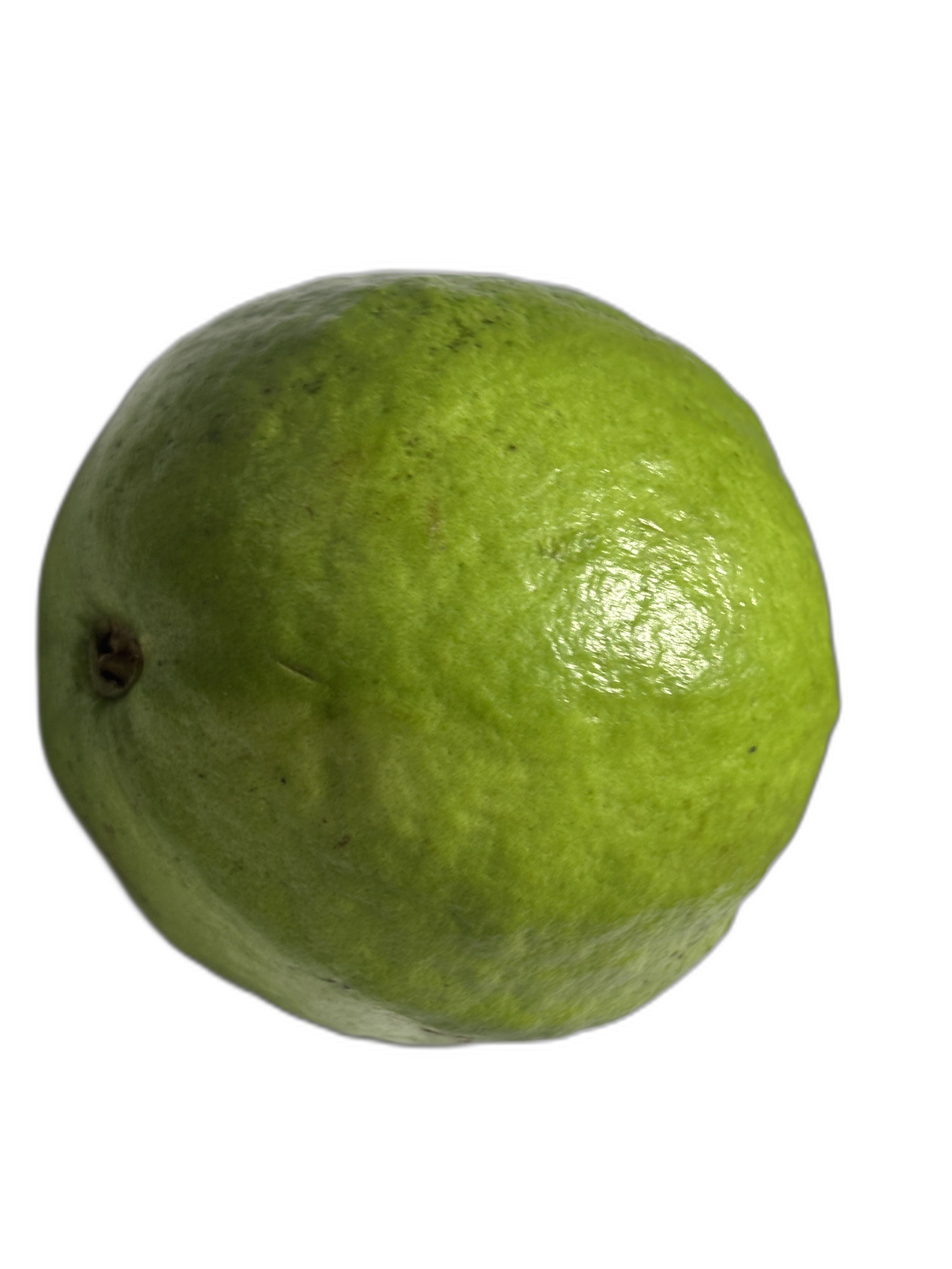guava: (140, 154, 829, 1090)
